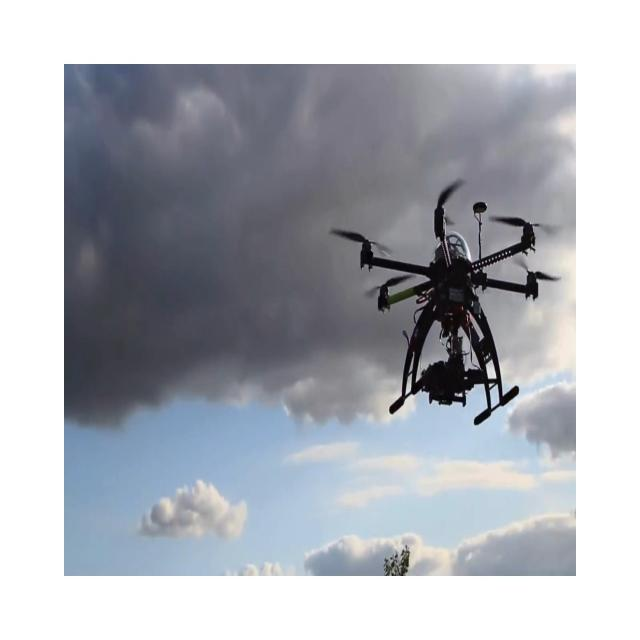drone: (328, 177, 562, 426)
